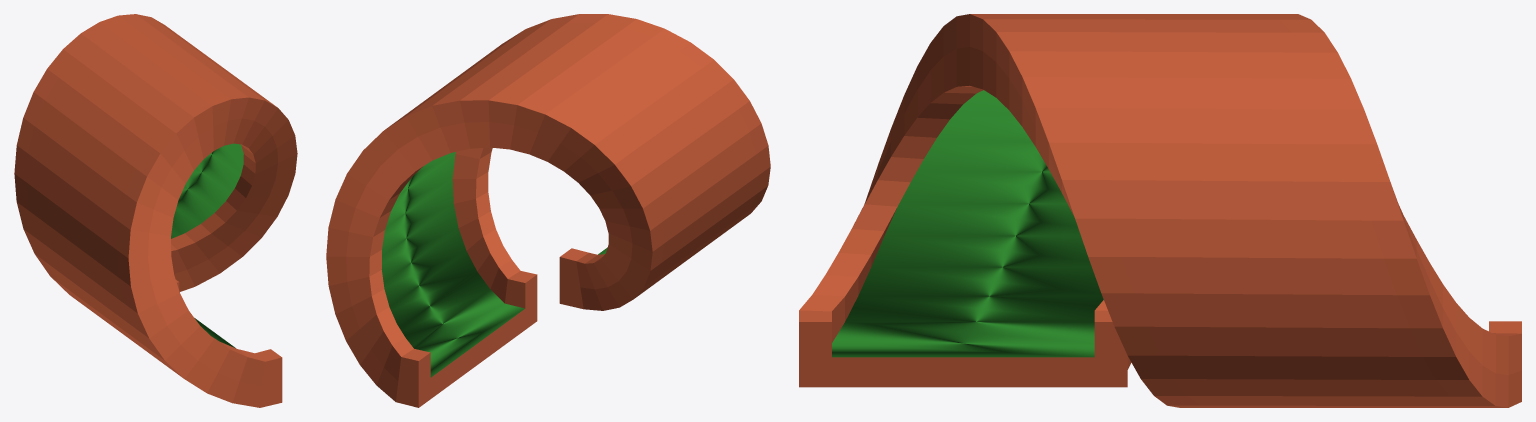
The model's file is good_looping.fbx.
3 renders of one model, left to right at view 1: azimuth 30°, elevation 25°; view 2: azimuth 150°, elevation 25°; view 3: azimuth 270°, elevation 25°, orthographic. The views are drawn at different scales.
Visible parts, largest first — view 1: Loop, WallRight; view 2: Loop, WallLeft, WallRight; view 3: Loop, WallRight, WallLeft.
Boxes of the visible parts, box(x1,y1,x2,y2) form: Loop: box(14, 14, 297, 407); WallRight: box(148, 118, 282, 386); Loop: box(326, 14, 770, 407); WallLeft: box(346, 122, 632, 386); WallRight: box(452, 147, 537, 308); Loop: box(799, 14, 1521, 407); WallRight: box(799, 47, 1073, 357); WallLeft: box(1094, 206, 1521, 374).
Bounding box in the file's own units: 240 × 238 × 440.
